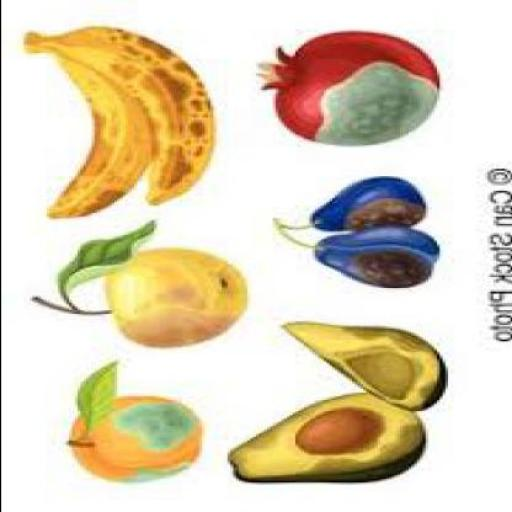biodegradable: (20, 24, 212, 204), (22, 40, 150, 218), (249, 29, 438, 147), (223, 392, 424, 482), (280, 320, 447, 410), (99, 246, 243, 345), (65, 394, 195, 480), (311, 225, 439, 286), (54, 216, 153, 292), (306, 176, 424, 230), (292, 406, 379, 454), (71, 356, 116, 430)
